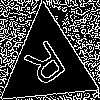R: (22, 38, 73, 96)
